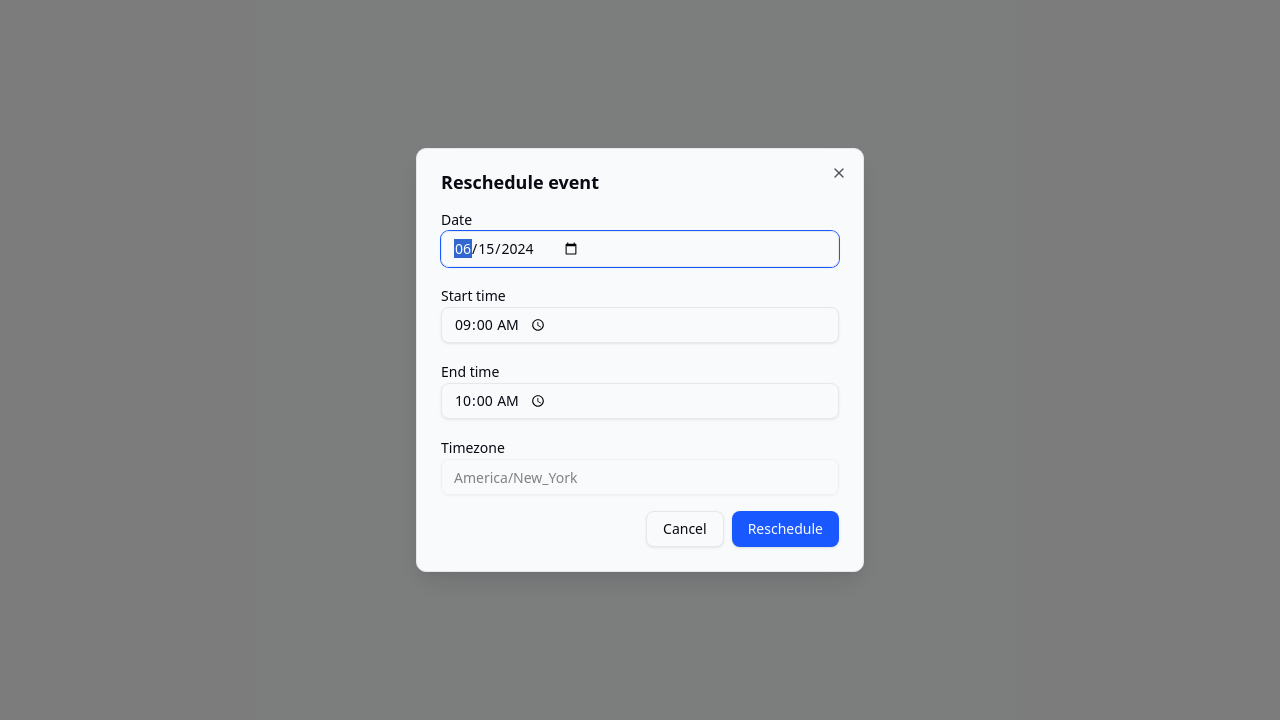
Test: RescheduleDialog › recurring event — scope prompt › shows ScopePromptDialog after a clean submit on a recurring event
Click the button with test id "reschedule-submit". click: (785, 529)
box: [732,511,839,547]
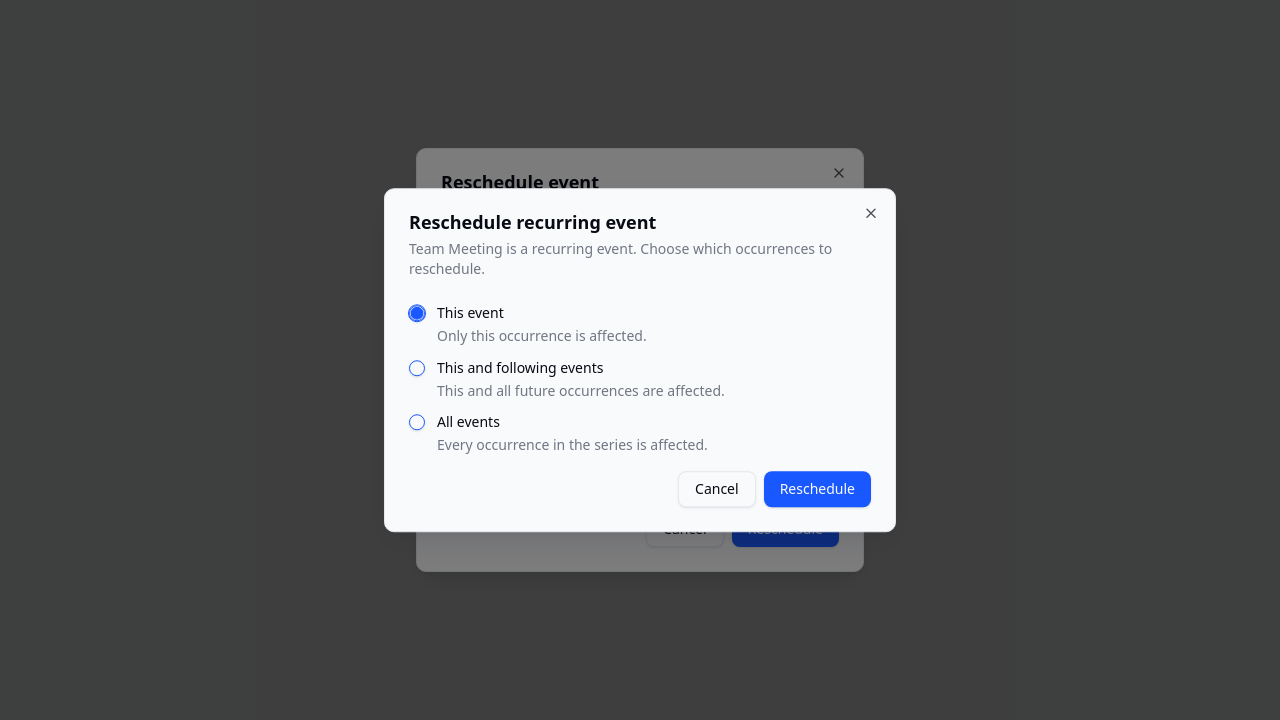
Now the heading "Reschedule recurring event" is shown, box [409,210,656,234]
